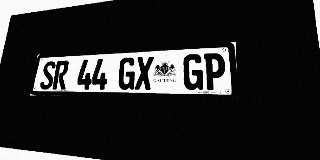4: (91, 58, 109, 90), (76, 59, 94, 90)
G: (183, 54, 203, 90), (117, 57, 136, 90)
P: (204, 53, 226, 90)
R: (52, 60, 69, 90)
S: (39, 61, 56, 89)
X: (134, 56, 154, 90)
